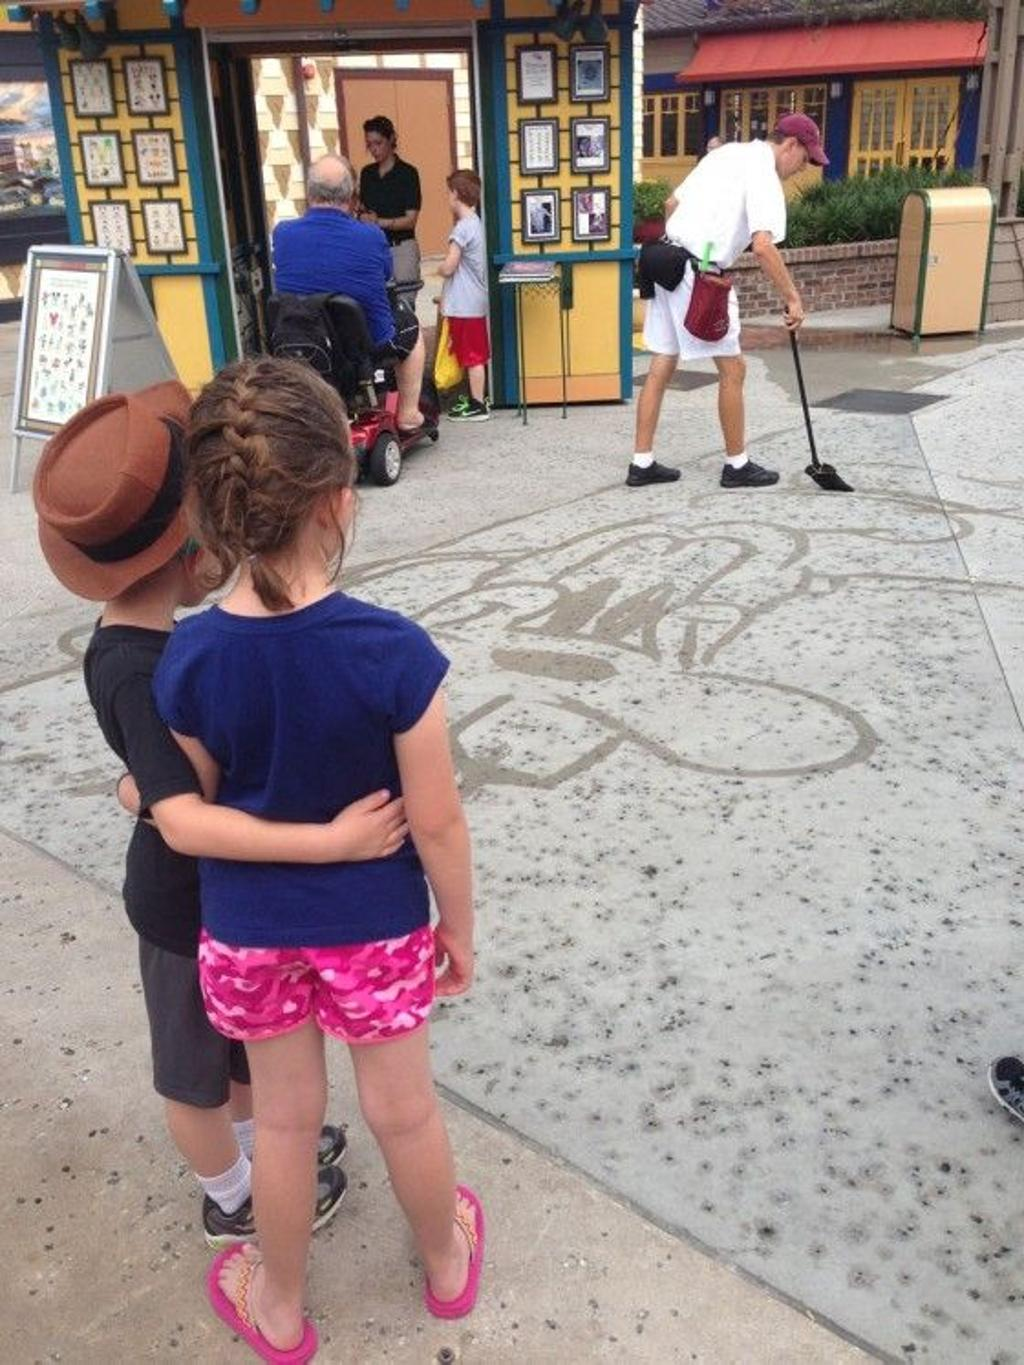face: (780, 145, 808, 180), (365, 130, 388, 161), (445, 185, 459, 209), (706, 143, 719, 159)
